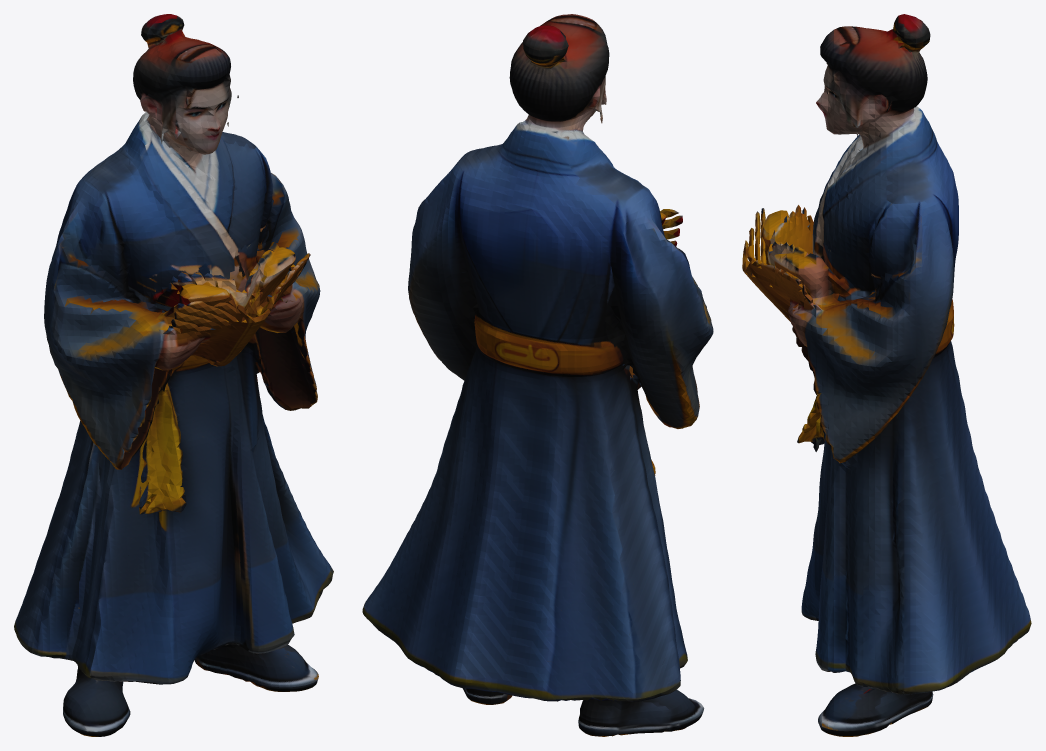
The model's file is body.glb.
The picture shows the model from 3 angles, left to right: view 1: azimuth 30°, elevation 25°; view 2: azimuth 150°, elevation 25°; view 3: azimuth 270°, elevation 25°; orthographic projection. The views are drawn at different scales.
Parts seen in each view (by area): view 1: geometry_0; view 2: geometry_0; view 3: geometry_0.
Boxes of the visible parts, x1,y1,x2,y2 form: geometry_0: (14, 14, 333, 736); geometry_0: (362, 14, 713, 736); geometry_0: (742, 14, 1031, 736).
Size of the model in its own units: 0.9246 by 1.96 by 0.7712.
1 material, 1 textured.
